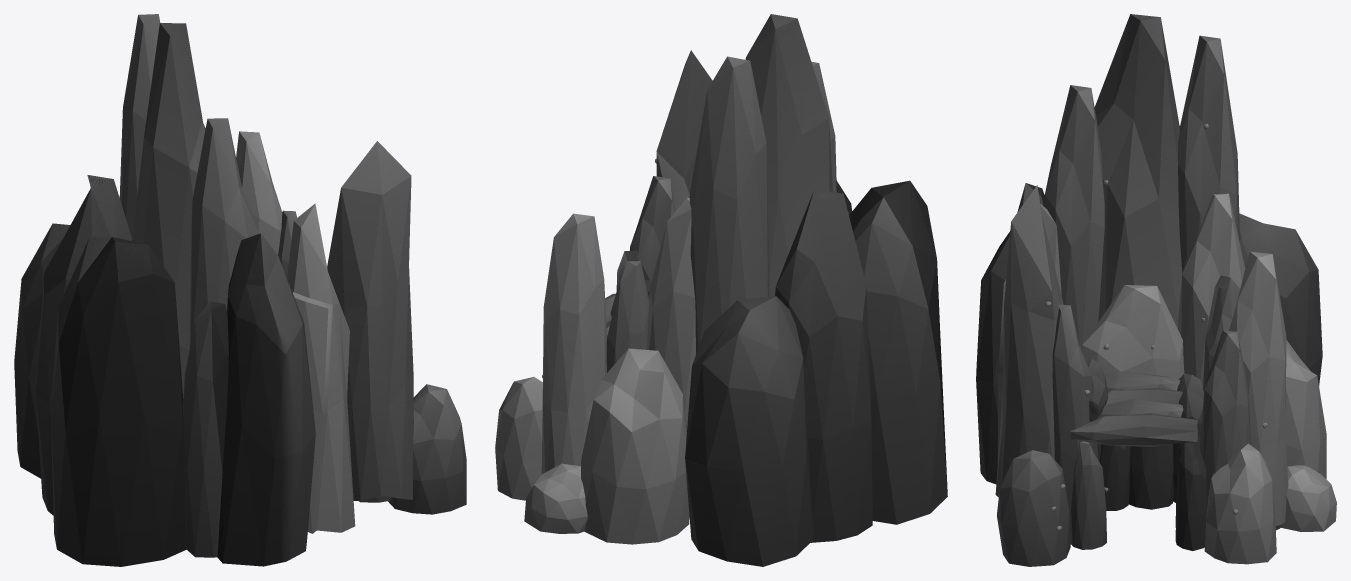
The model's file is Gimansiort.fbx.
3 renders of one model, left to right at view 1: azimuth 30°, elevation 25°; view 2: azimuth 150°, elevation 25°; view 3: azimuth 270°, elevation 25°, orthographic. The views are drawn at different scales.
Visible parts, largest first — view 1: Gimnasio.001; view 2: Gimnasio.001; view 3: Gimnasio.001.
Boxes of the visible parts, box(x1,y1,x2,y2) form: Gimnasio.001: box(14, 14, 466, 566); Gimnasio.001: box(495, 14, 947, 566); Gimnasio.001: box(976, 14, 1336, 566).
Bounding box in the file's own units: 3191 × 4055 × 2945.
1 material, 1 textured.
